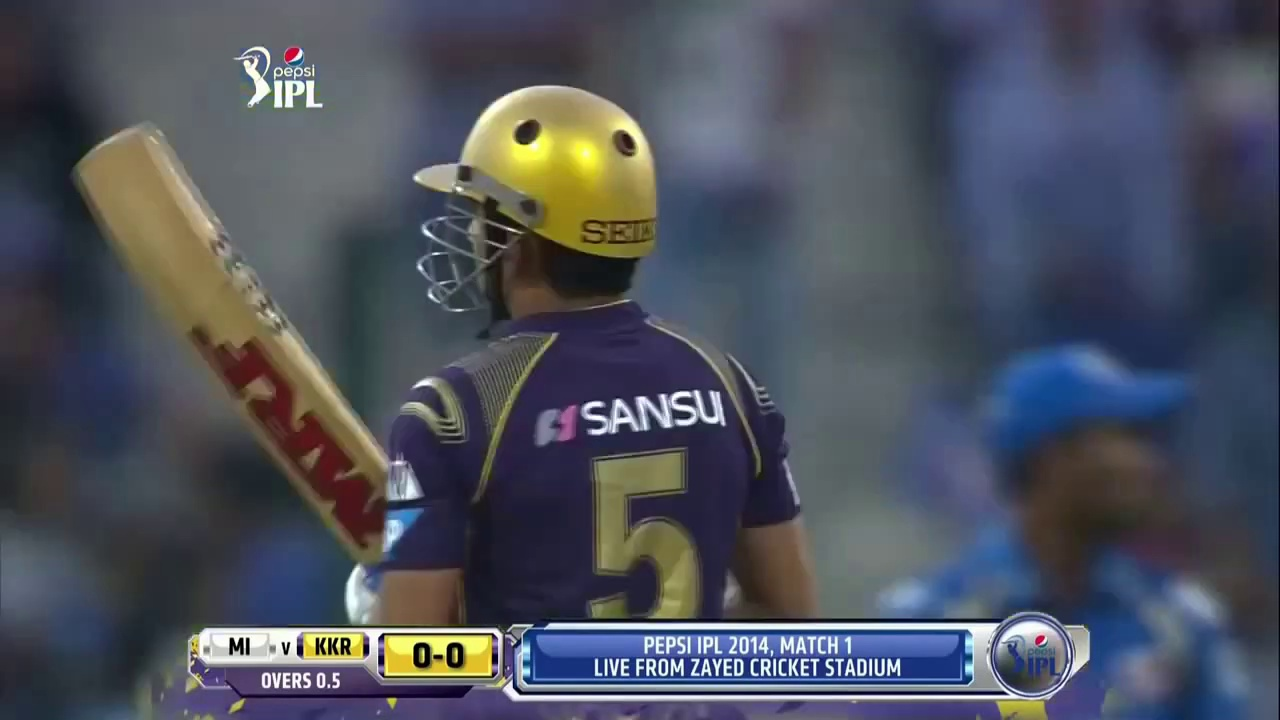bat: (69, 118, 388, 454)
